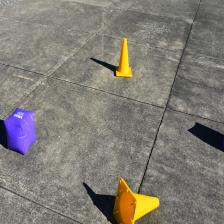cone: (113, 176, 160, 224), (115, 37, 132, 78)
cube: (3, 106, 37, 156), (222, 135, 224, 148)
